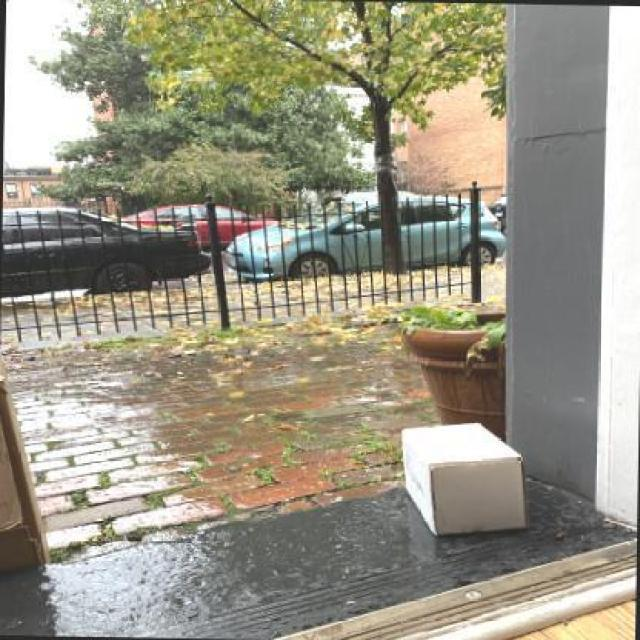box: (398, 418, 526, 535)
